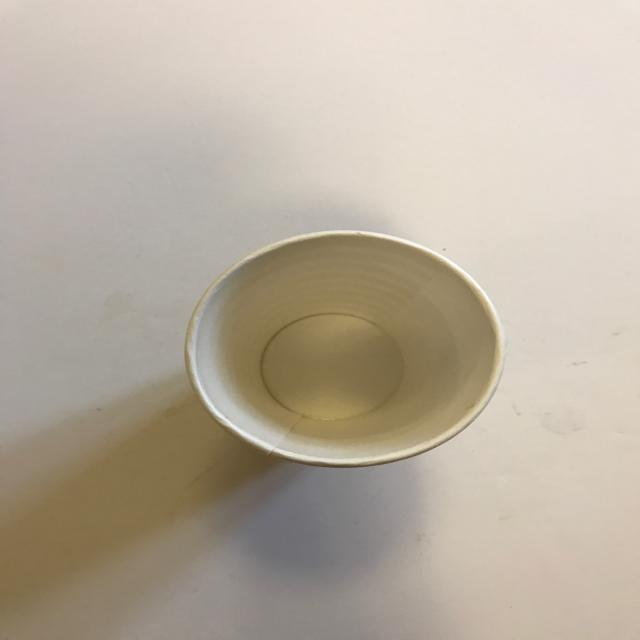trash: (183, 229, 505, 468)
